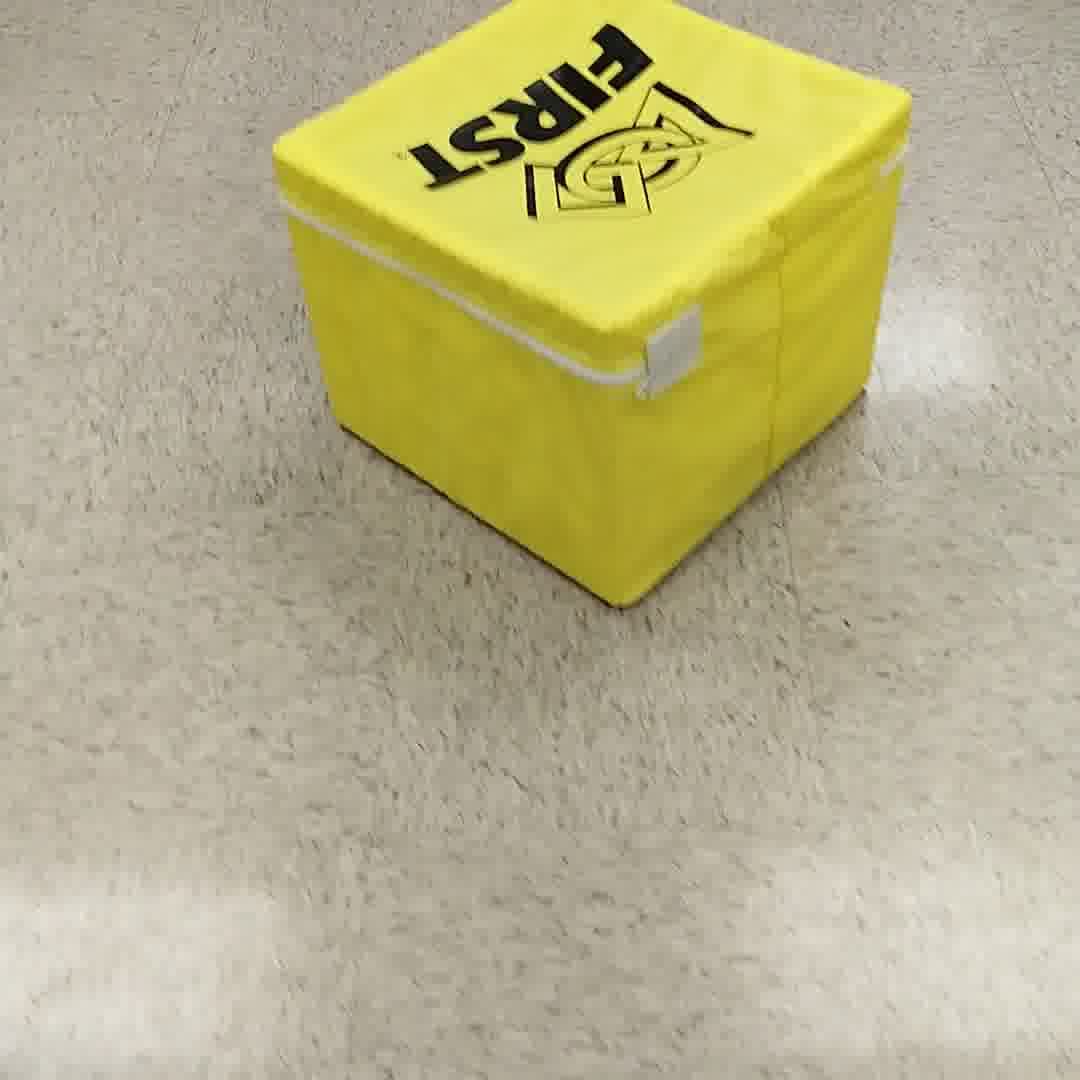box: (261, 1, 916, 613)
